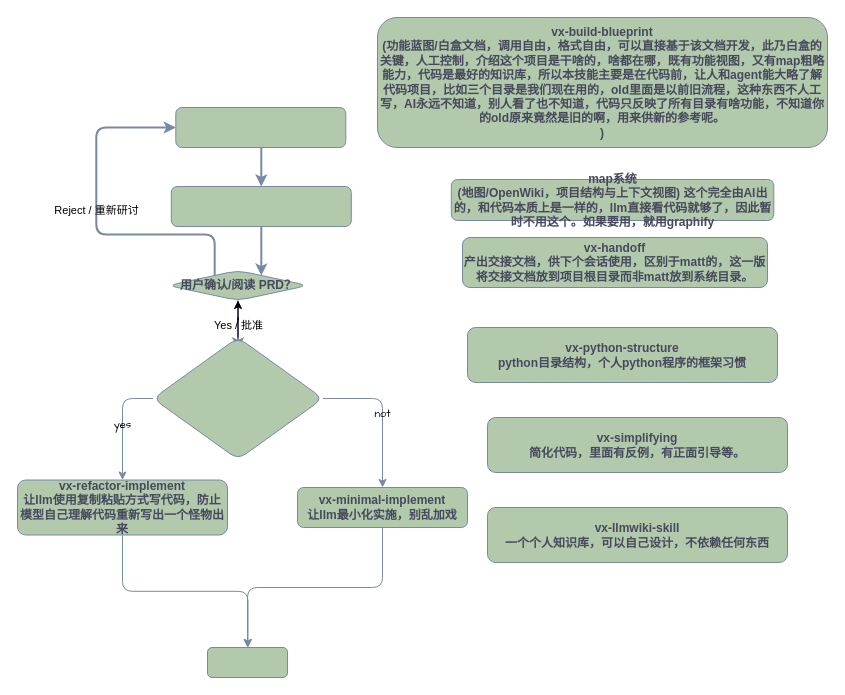
This 845x695 diagram has some shape labels left out. Each missing label, with the box of its shape:
matt/ codereview: (206, 646, 288, 678)
vx-grill-with-docs-pro (交互式需求 Grilling 与分析): (175, 106, 346, 148)
vx-implement 使用aaa触发 是否refactor: (152, 336, 323, 460)
产出文档 (CONTEXT.md / ADR / PRD): (170, 186, 351, 226)
